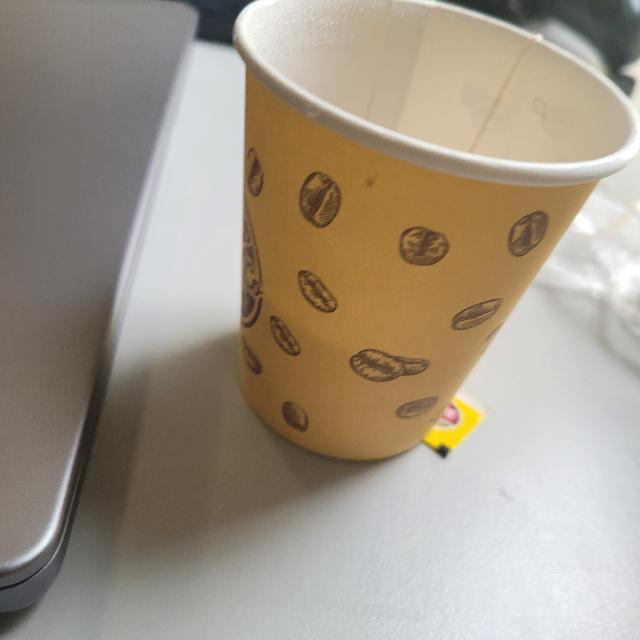Kagit: (230, 0, 640, 476)
